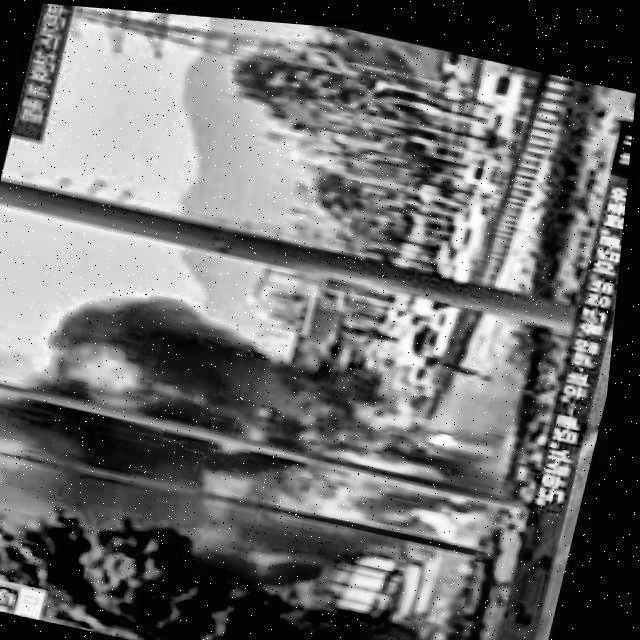Fire: (308, 403, 513, 544), (54, 329, 185, 419)
Smoke: (44, 273, 398, 411), (0, 369, 231, 541)
